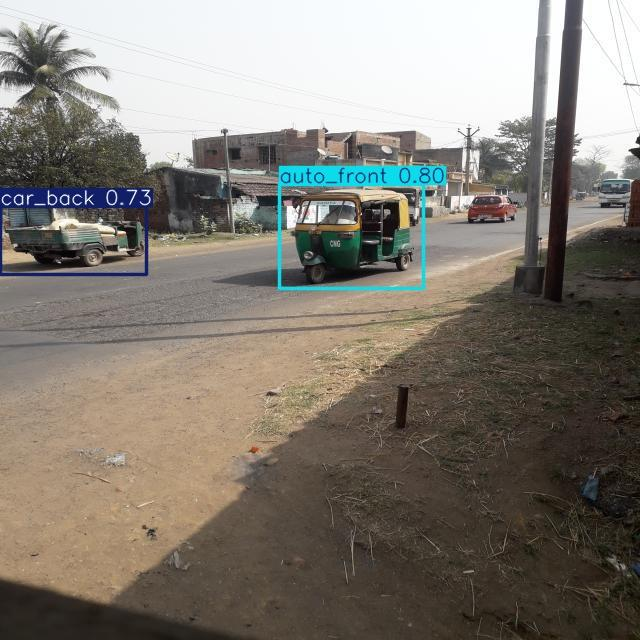auto_back: (2, 208, 159, 268)
auto_front: (287, 183, 415, 285)
bus_front: (591, 173, 640, 213)
car_back: (462, 190, 517, 232)
